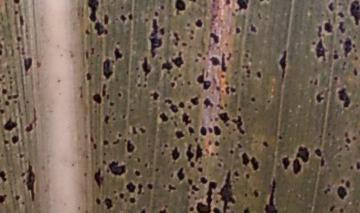tarspot: (217, 169, 237, 213), (192, 180, 217, 212), (263, 176, 280, 213), (147, 16, 163, 54), (24, 161, 38, 202), (193, 72, 214, 92), (107, 157, 126, 178), (335, 86, 350, 111), (295, 144, 313, 164), (230, 114, 246, 136), (340, 34, 353, 61), (277, 47, 289, 76), (86, 1, 100, 24), (140, 54, 151, 82), (1, 116, 20, 132), (101, 55, 112, 81), (279, 152, 292, 174), (169, 29, 183, 49), (314, 143, 326, 166), (315, 36, 326, 61), (122, 137, 137, 155), (311, 89, 325, 108), (91, 167, 104, 187), (216, 108, 231, 125), (172, 51, 186, 69), (193, 141, 204, 163), (233, 1, 251, 14), (184, 141, 195, 162), (249, 152, 260, 173), (335, 186, 350, 201), (179, 110, 193, 126), (201, 93, 213, 111), (156, 109, 170, 124), (322, 19, 336, 34), (92, 24, 108, 37), (208, 30, 221, 46), (171, 128, 187, 141), (176, 164, 186, 184), (238, 151, 249, 169), (171, 1, 186, 14), (159, 57, 172, 72), (91, 90, 103, 106), (124, 179, 136, 195), (22, 55, 33, 72), (113, 44, 124, 61), (247, 20, 260, 34), (170, 144, 180, 162), (212, 123, 222, 140), (209, 54, 221, 68), (101, 197, 113, 210), (24, 120, 36, 133), (193, 16, 204, 30), (150, 88, 160, 103), (188, 94, 200, 106), (17, 14, 26, 30), (253, 68, 264, 81), (11, 133, 21, 147), (223, 85, 237, 95), (1, 168, 9, 185), (251, 185, 260, 200), (101, 12, 112, 24), (101, 113, 112, 125), (83, 69, 94, 81), (343, 134, 353, 147), (198, 124, 207, 138), (130, 124, 139, 138), (13, 34, 24, 45), (165, 183, 177, 193), (1, 191, 9, 205), (232, 25, 242, 36), (325, 1, 335, 12), (115, 90, 126, 100), (106, 98, 118, 107), (177, 97, 185, 110), (140, 123, 148, 136), (330, 51, 340, 61), (195, 165, 205, 175), (327, 203, 337, 213), (132, 166, 141, 177), (260, 139, 271, 148), (197, 174, 206, 185), (11, 193, 22, 202), (100, 138, 111, 147), (211, 139, 222, 148), (353, 159, 360, 173), (94, 194, 102, 206), (127, 10, 135, 22), (145, 181, 153, 193), (249, 93, 256, 106), (100, 83, 108, 94), (188, 125, 195, 137), (118, 13, 126, 23), (164, 97, 174, 105), (208, 123, 214, 136), (138, 206, 149, 213), (1, 84, 7, 96), (236, 140, 242, 152), (4, 98, 11, 108), (168, 81, 174, 90)
